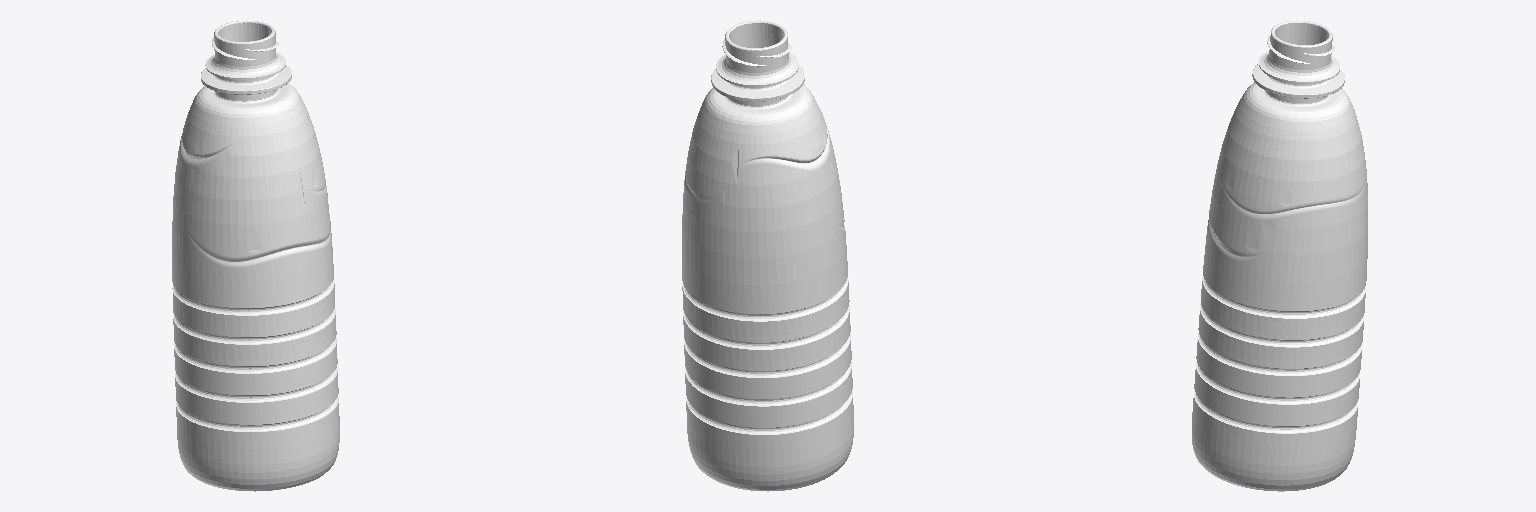
The robot description file, URDF, robot "yibao":
<?xml version="1.0" encoding="utf-8"?>
<!-- This URDF was automatically created by SolidWorks to URDF Exporter! Originally created by Stephen Brawner ([email redacted]) 
     Commit Version: 1.6.0-4-g7f85cfe  Build Version: 1.6.7995.38578
     For more information, please see http://wiki.ros.org/sw_urdf_exporter -->
<robot
  name="yibao">
  <link
    name="base_link">
    <contact>
      <friction_anchor/>
      <lateral_friction value="0.308"/>
      <spinning_friction value="0.001"/>
      <rolling_friction value="0.001"/>
      <contact_cfm value="0.0"/>
      <contact_erp value="1.0"/>
    </contact>
    <inertial>
      <origin
        xyz="-1.61033668767251E-17 -3.46944695195361E-17 1.73832336600264E-18"
        rpy="0 0 0" />
      <mass
        value=".389" />
      <inertia
        ixx="3.05052066367758E-09"
        ixy="-1.83860257258489E-12"
        ixz="6.19842921228588E-13"
        iyy="6.58096710179503E-10"
        iyz="1.13003232731489E-12"
        izz="3.05050755800486E-09" />
    </inertial>
    <visual>
      <origin
        xyz="0 0 0"
        rpy="1.507 0 0" />
      <geometry>
        <mesh
          filename="nontextured.obj"  scale="1 1 1"/>  <!-- 6.2 work-->
          <!-- yibao 7.15 7.15 7.15 -->
      </geometry>
      <material
        name="">
        <color
          rgba="1 1 1 1" />
      </material>
    </visual>
    <collision>
      <origin
        xyz="0 0 0"
        rpy="0 0 0" />
      <geometry>
        <mesh
          filename="nontextured.obj"  scale="1 1 1"/>  <!-- 6.2 work-->
      </geometry>
    </collision>
  </link>
</robot>

--- What the picture shows (computed from the rendered views, not written in the file) ---
The picture shows the robot from 3 angles, left to right: view 1: azimuth 30°, elevation 25°; view 2: azimuth 150°, elevation 25°; view 3: azimuth 270°, elevation 25°; orthographic projection.
Model yibao with 1 links and 0 joints (none), rooted at base_link, posed all joints at 0.
Visible links, largest first — view 1: base_link; view 2: base_link; view 3: base_link.
Link boxes in pixels (<box>): base_link: <box>172,20,339,491</box>; base_link: <box>682,20,853,491</box>; base_link: <box>1192,20,1367,491</box>.
Size in the robot's own frame: 60.44 by 64.8 by 176 metres.
1 mesh visuals loaded from 1 distinct referenced files (1 OBJ).
